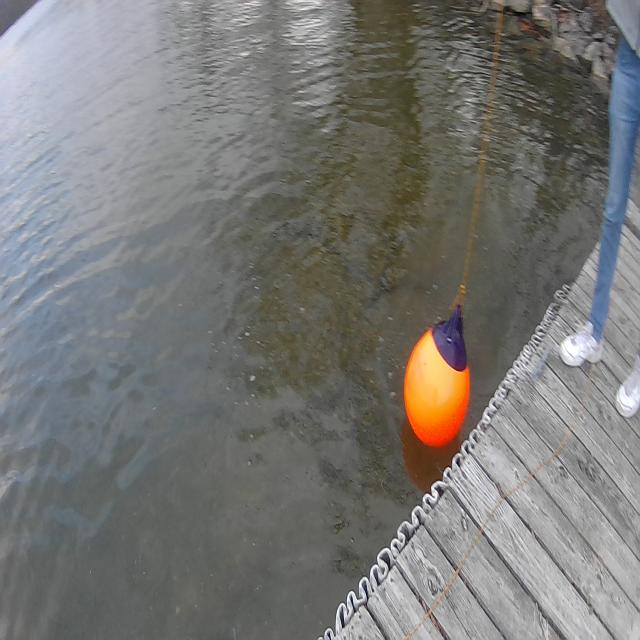Buoy: (392, 296, 475, 456)
